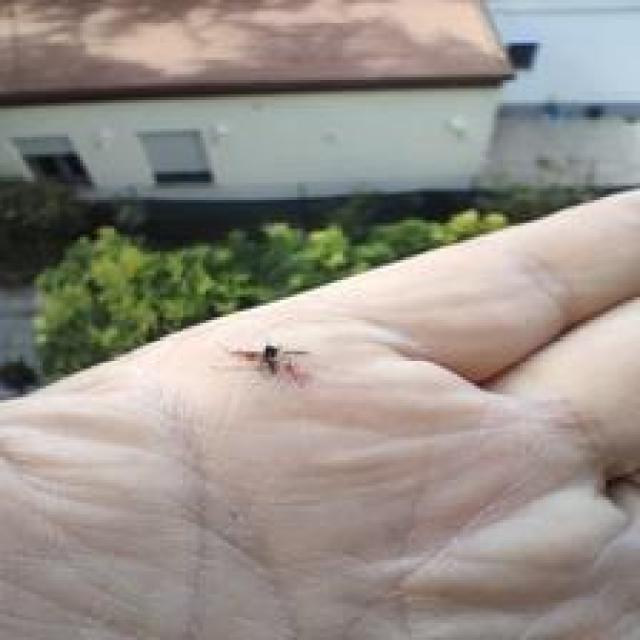Aedes albopictus: (228, 340, 312, 389)
